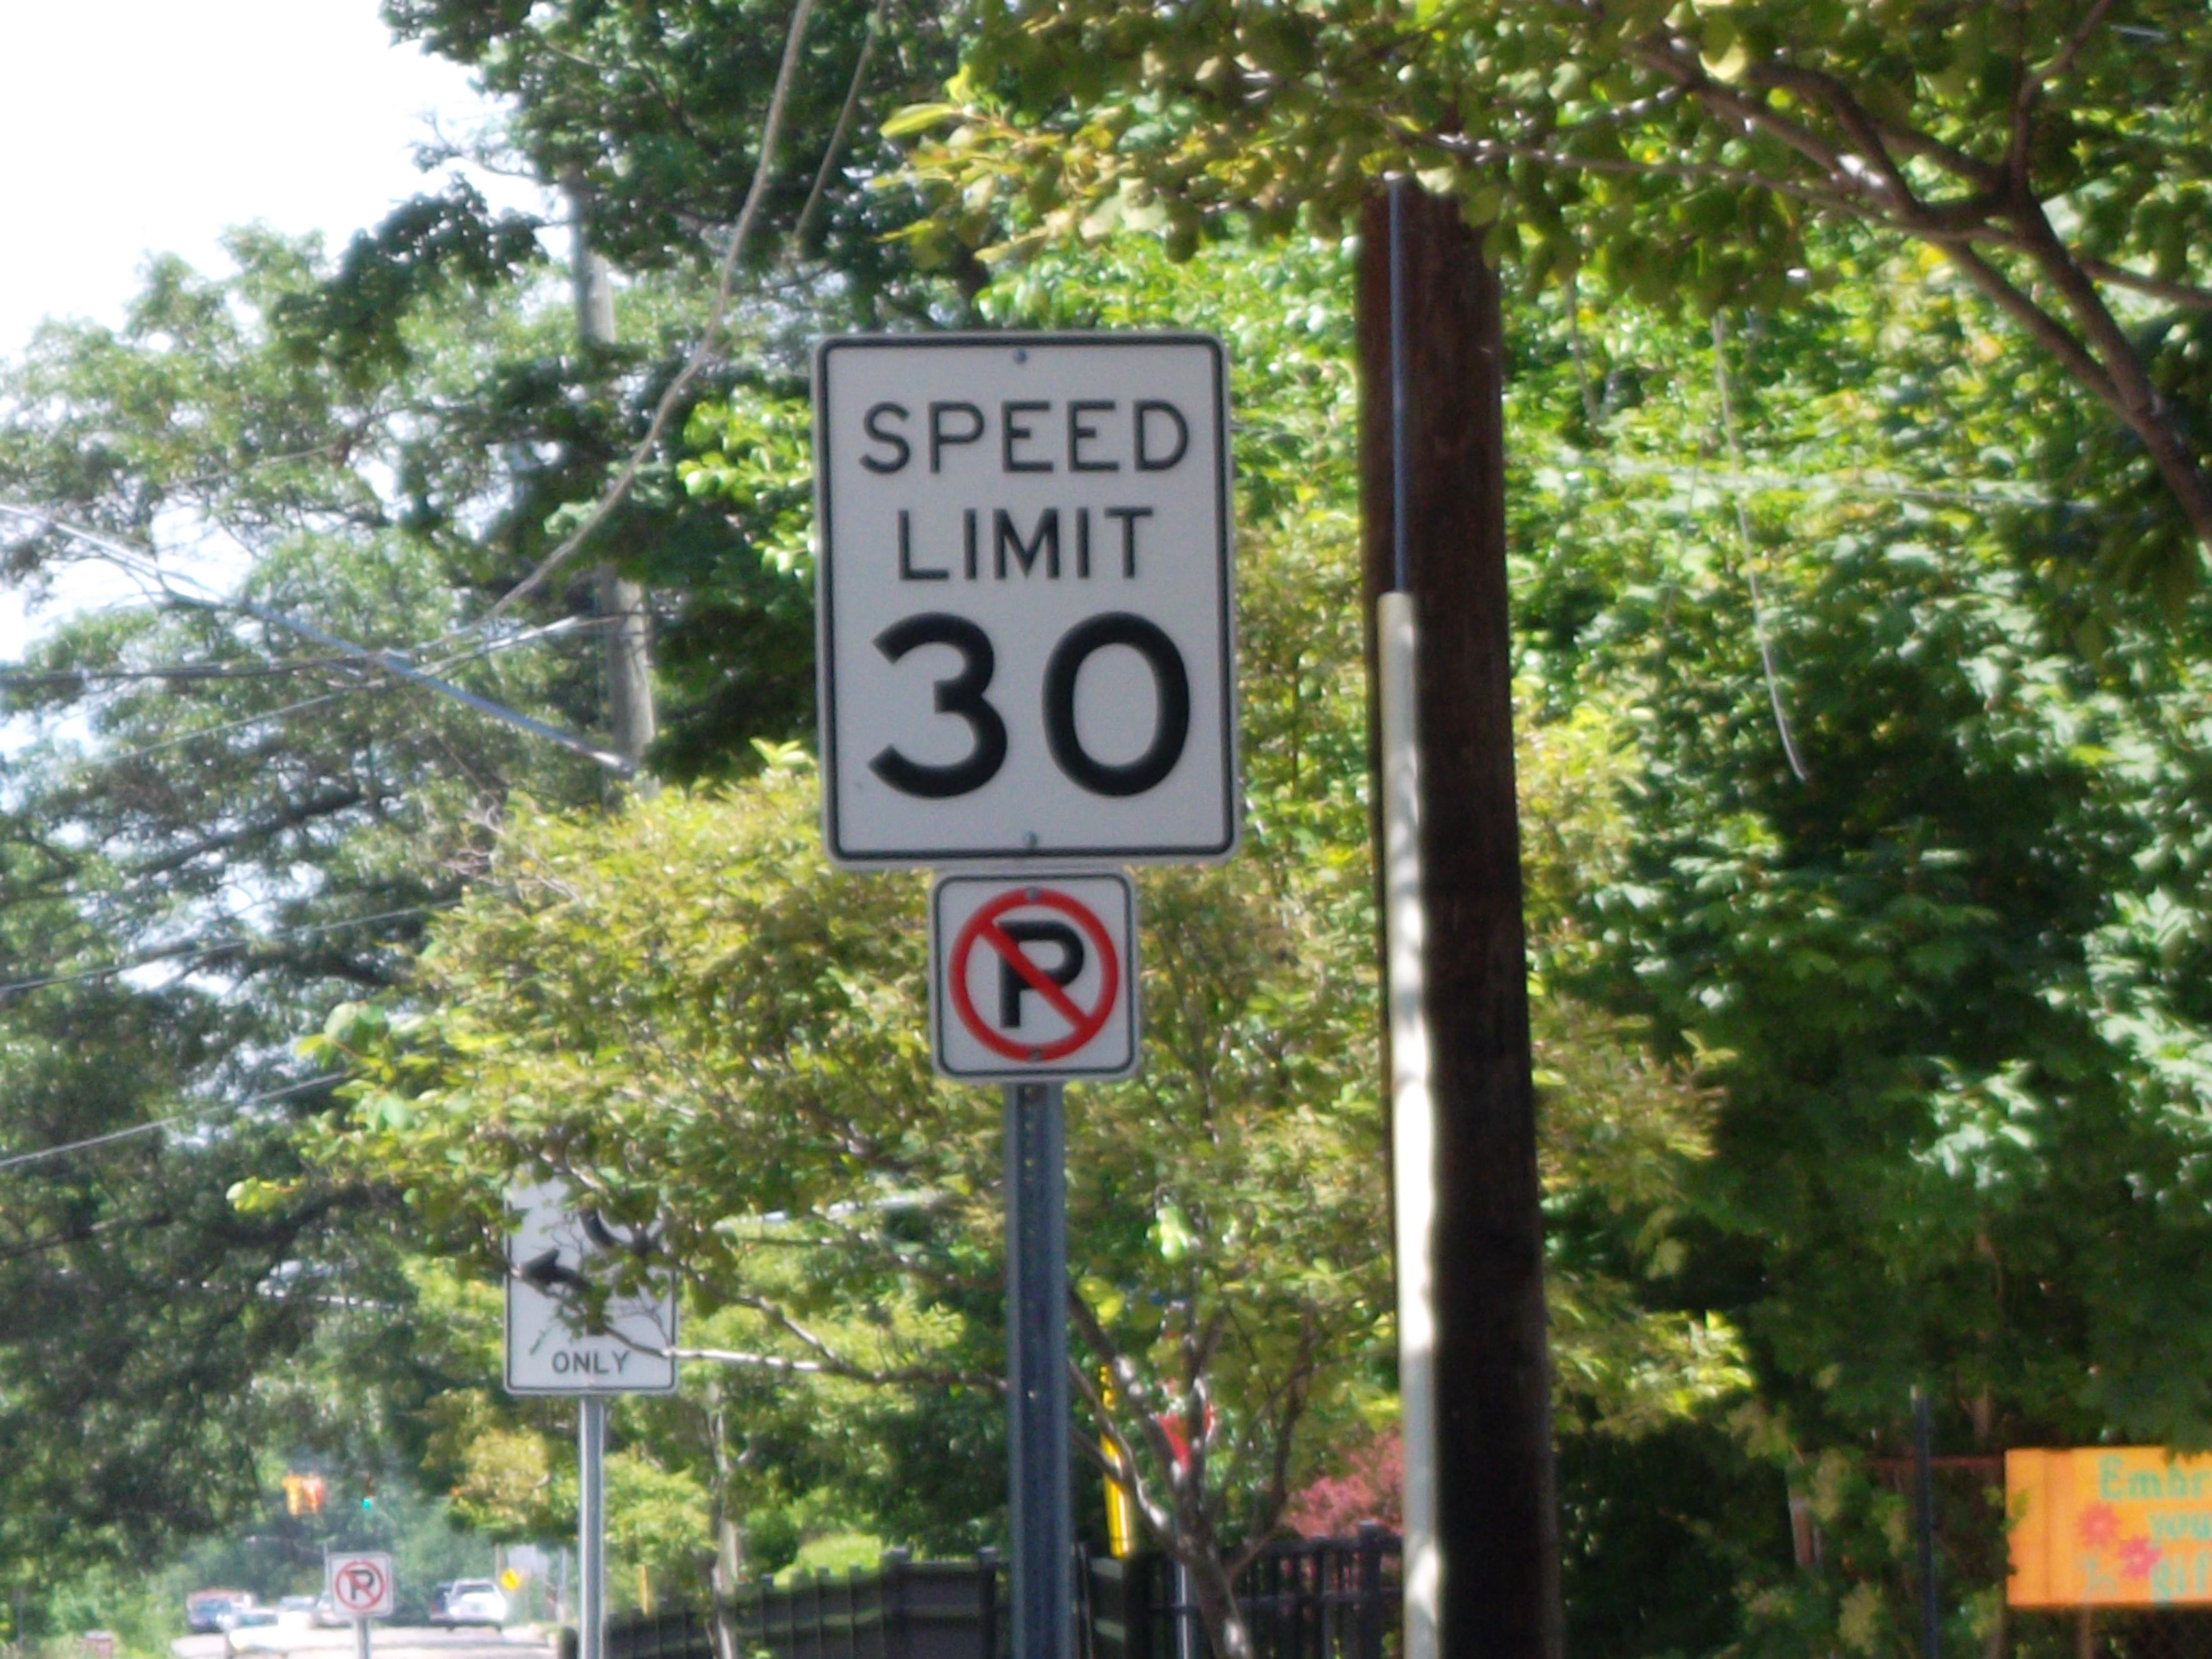regulatory: (810, 324, 1244, 871), (498, 1145, 691, 1415), (916, 866, 1148, 1084), (319, 1553, 402, 1628)
